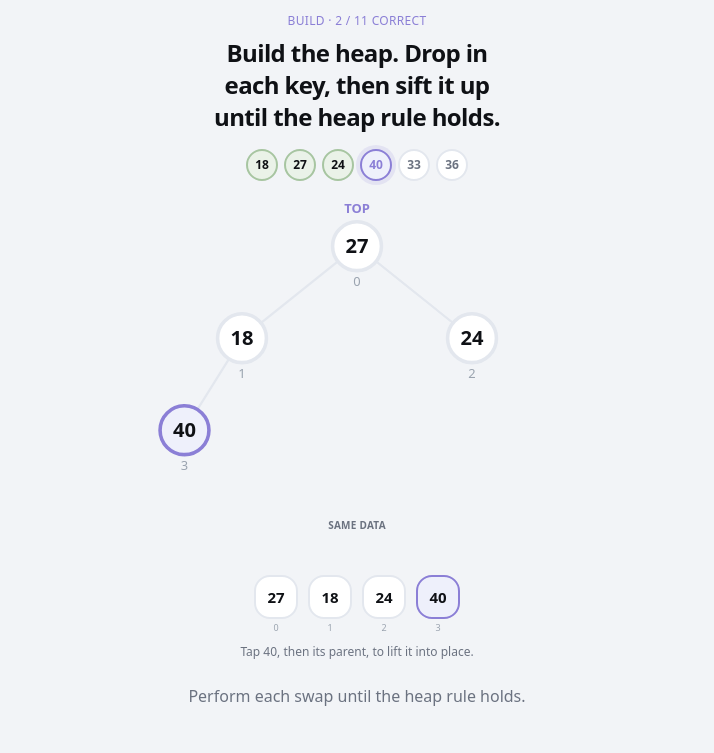
it: build-a-heap (graded: build it yourself, sifting each insert) › a wrong sub-move nudges without advancing (no fail wall)
Click the button named "slot 2, value 24".
click(384, 597)  # box [362, 575, 406, 619]
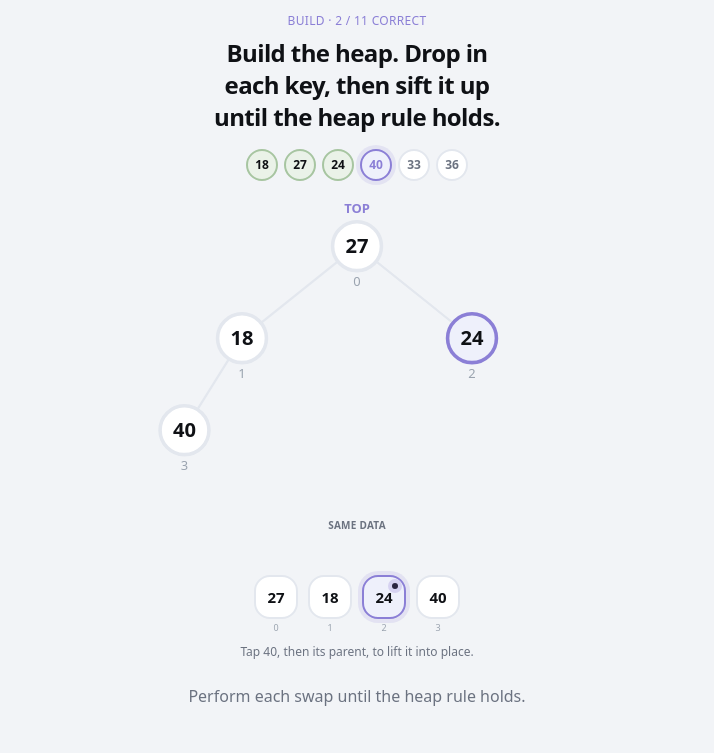
Click the button named "slot 0, value 27".
click(276, 597)  # box [254, 575, 298, 619]
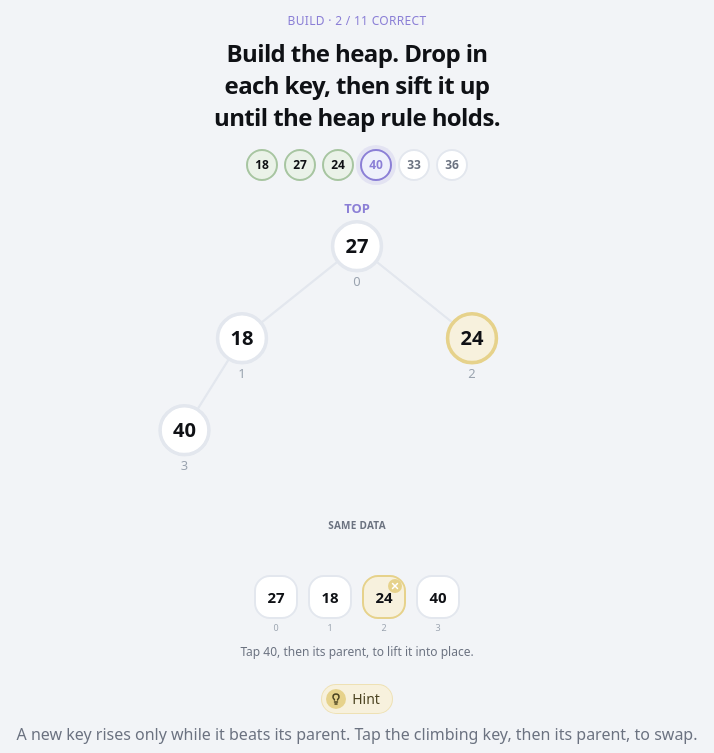
Expected: the button named "slot 3, value 40" is shown, [416, 575, 460, 619]
Now the text "rises only while it beats its parent" is shown, box [16, 723, 698, 745]
